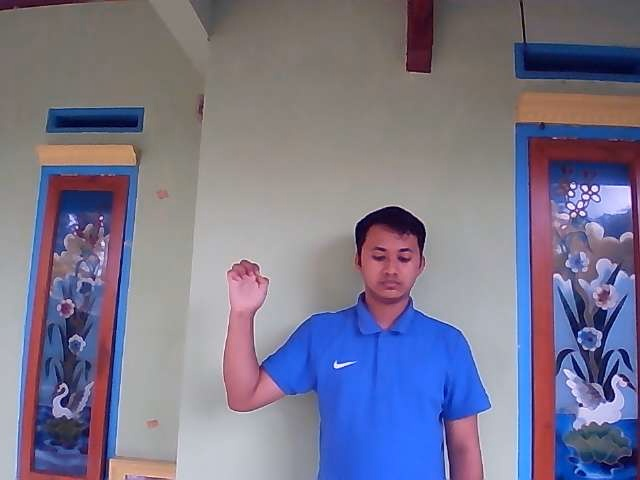E: (225, 259, 271, 315)
